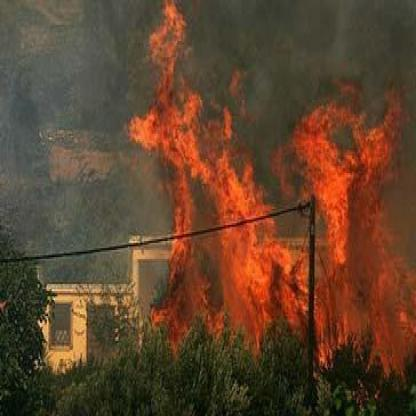fire: (129, 9, 302, 335), (299, 88, 410, 356)
